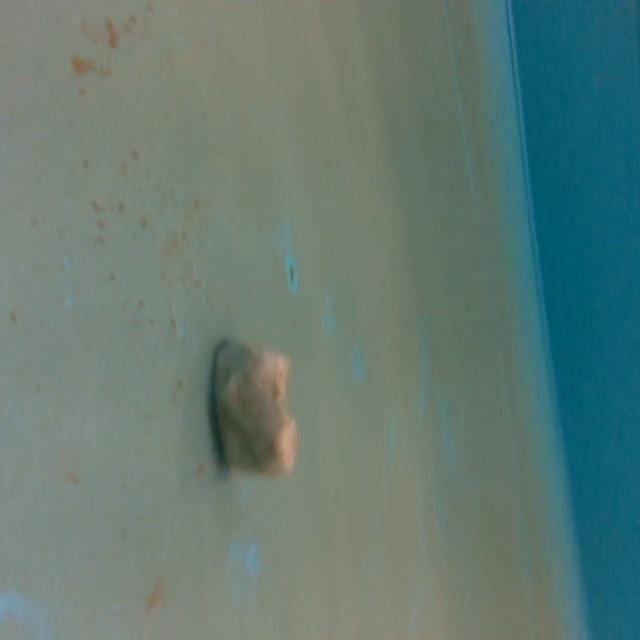rock: (208, 326, 302, 484)
